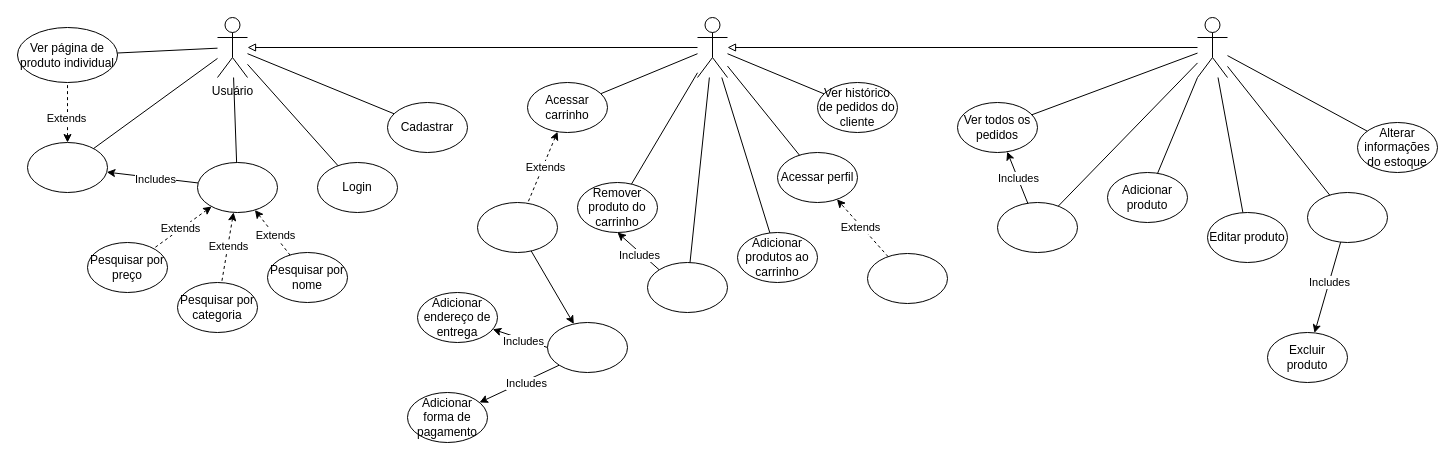
This 1455x460 diagram has some shape labels left out. The shapes that lost their labels are listed below. From the top down, each one's centre as x and y in pixels, then its label:
(x=712, y=47): Cliente
(x=1212, y=47): Admin
(x=67, y=167): Ver catálogo de produtos
(x=237, y=187): Pesquisar produtos
(x=517, y=227): Checkout
(x=1037, y=227): Atualizar status de pedidos
(x=1347, y=217): Excluir produto em estoque
(x=687, y=287): Esvaziar carrinho
(x=907, y=278): Alterar dados do perfil do cliente
(x=587, y=347): Finalizar pedido
